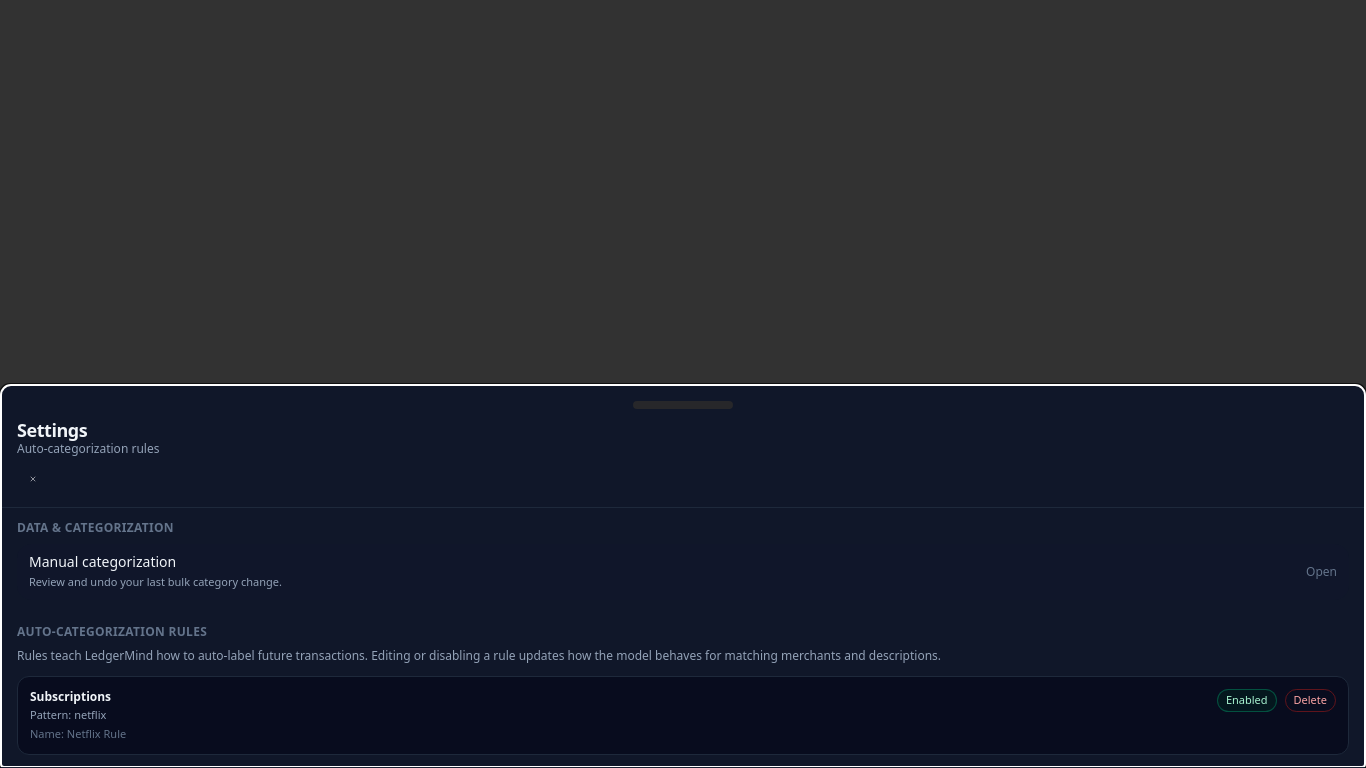
it: SettingsDrawer › deletes rule after confirmation and shows toast
Expected: the text "Subscriptions" is shown, [30,688,111,705]
// Find and click delete button
Click the button with test id "settings-rule-delete" at [1310, 700], box [1284,689,1336,712]
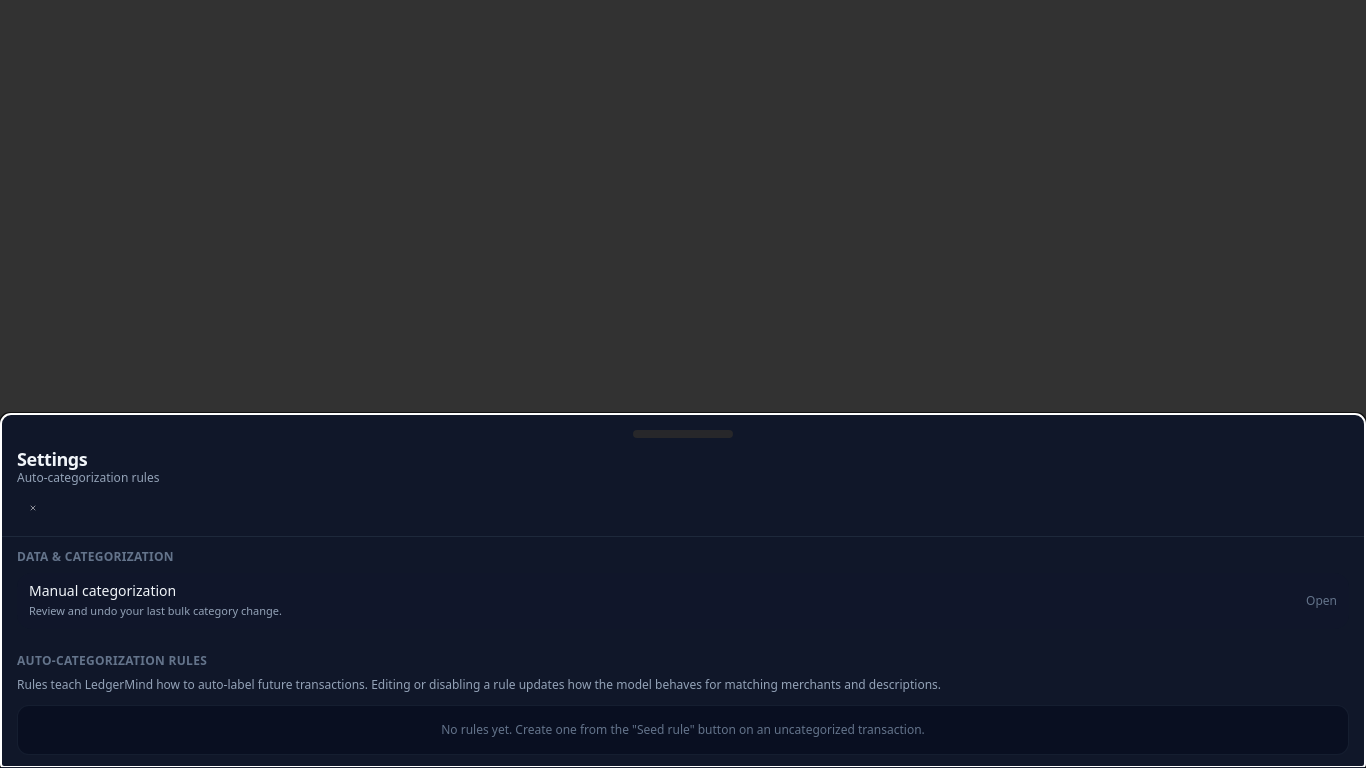
Result: the text "Subscriptions" is gone
